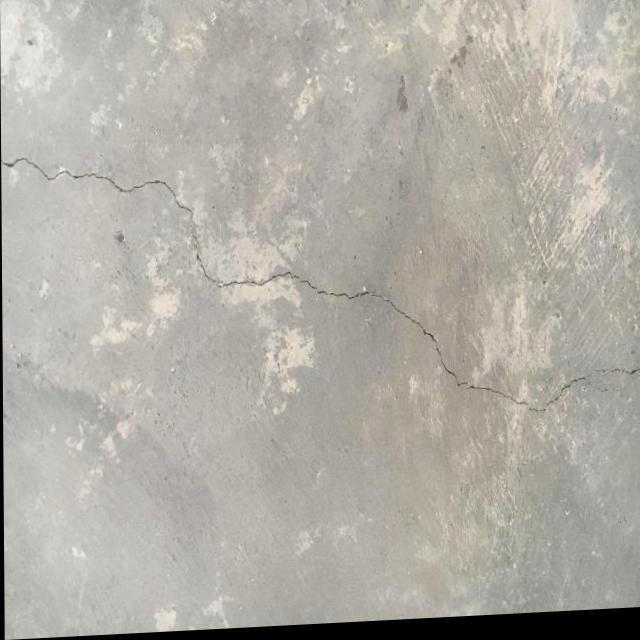Crack: (2, 119, 640, 446)
